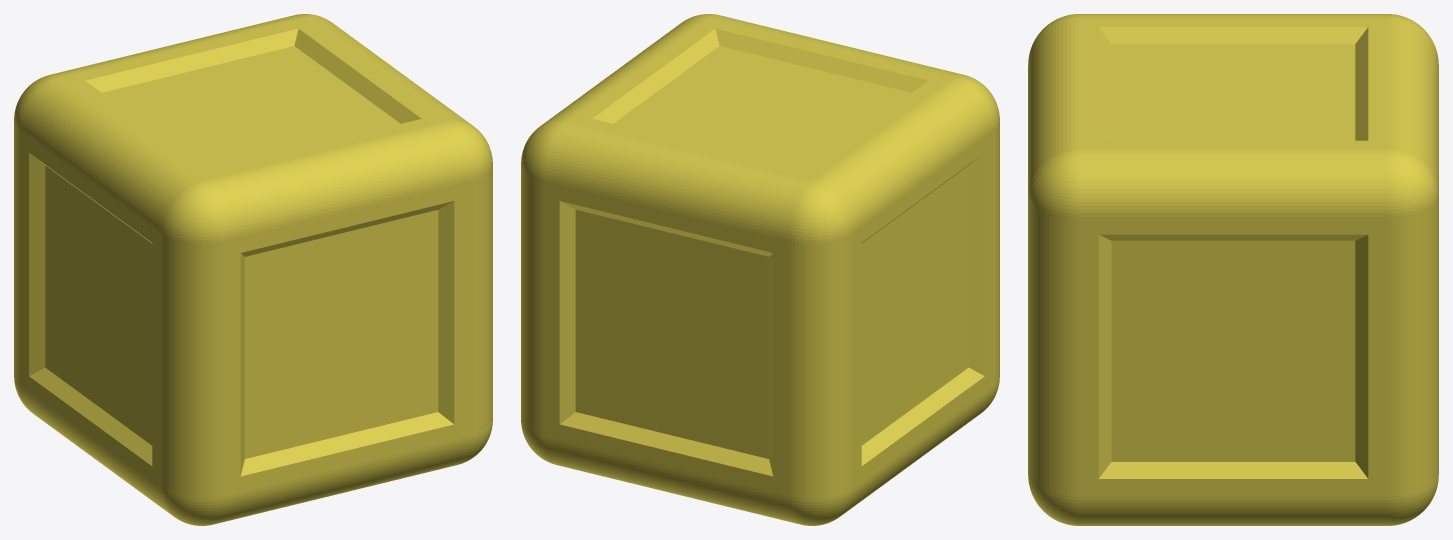
Rendered from cubic-tag-head.glb.
The picture shows the model from 3 angles, left to right: view 1: azimuth 30°, elevation 25°; view 2: azimuth 150°, elevation 25°; view 3: azimuth 270°, elevation 25°; orthographic projection. The views are drawn at different scales.
Parts seen in each view (by area): view 1: Mesh_Mesh_head_geo.001_lambert2SG.001; view 2: Mesh_Mesh_head_geo.001_lambert2SG.001; view 3: Mesh_Mesh_head_geo.001_lambert2SG.001.
Boxes of the visible parts, <box> form: Mesh_Mesh_head_geo.001_lambert2SG.001: <box>14,14,492,525</box>; Mesh_Mesh_head_geo.001_lambert2SG.001: <box>521,14,999,525</box>; Mesh_Mesh_head_geo.001_lambert2SG.001: <box>1028,14,1438,525</box>.
Bounding box in the file's own units: 64 × 64 × 64.
